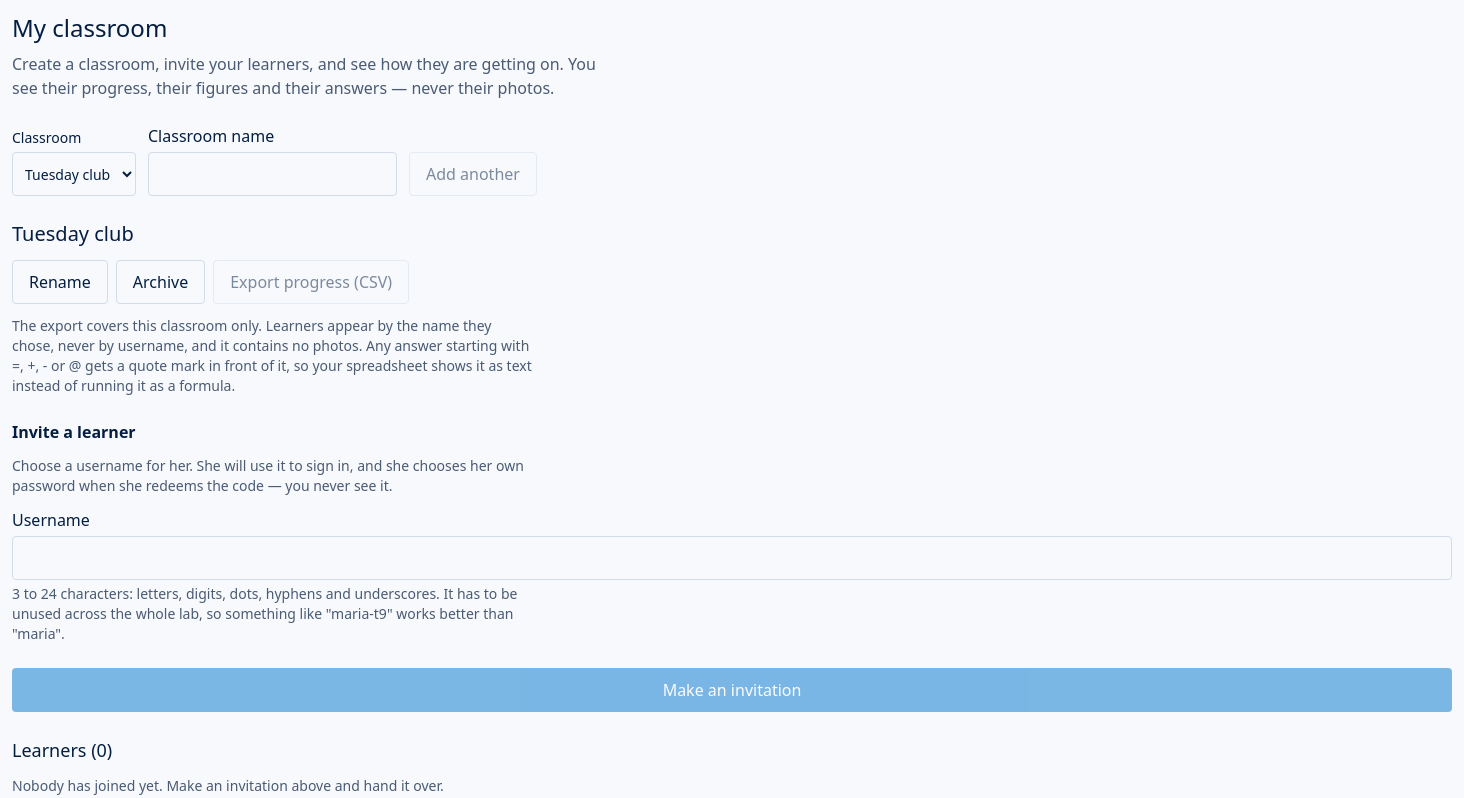
issuing an invitation (FR-026, FR-028, Scenario 6.2) › offers no way to email it, and no way to see it again (FR-026, R16)
Check: the heading "My classroom" is shown, box [12,11,167,44]
Type "zz-issued-username" into the field labelled "Username" at (732, 558), box [12,536,1452,580]
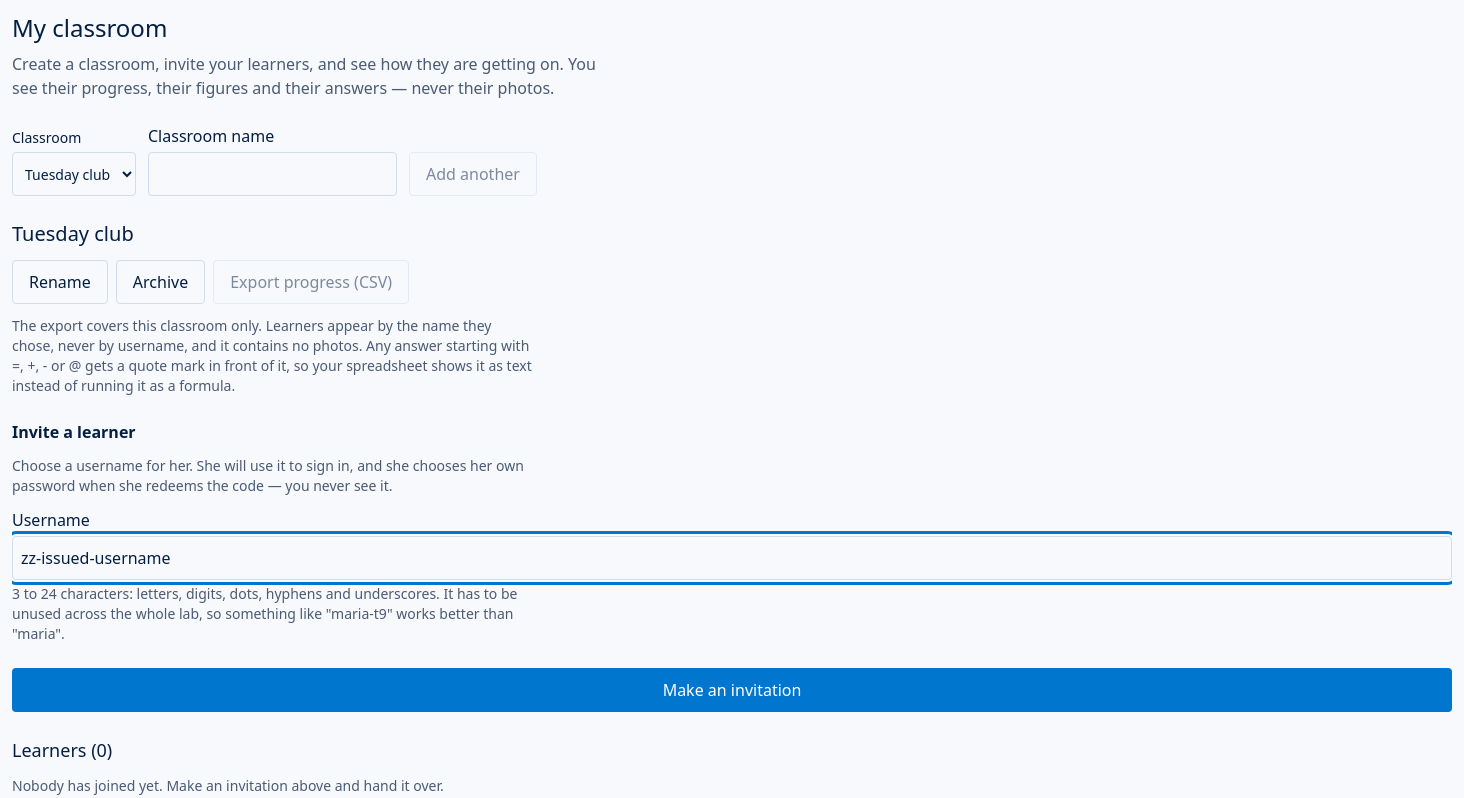
Click the button "Make an invitation" at (732, 690), box [12,668,1452,712]
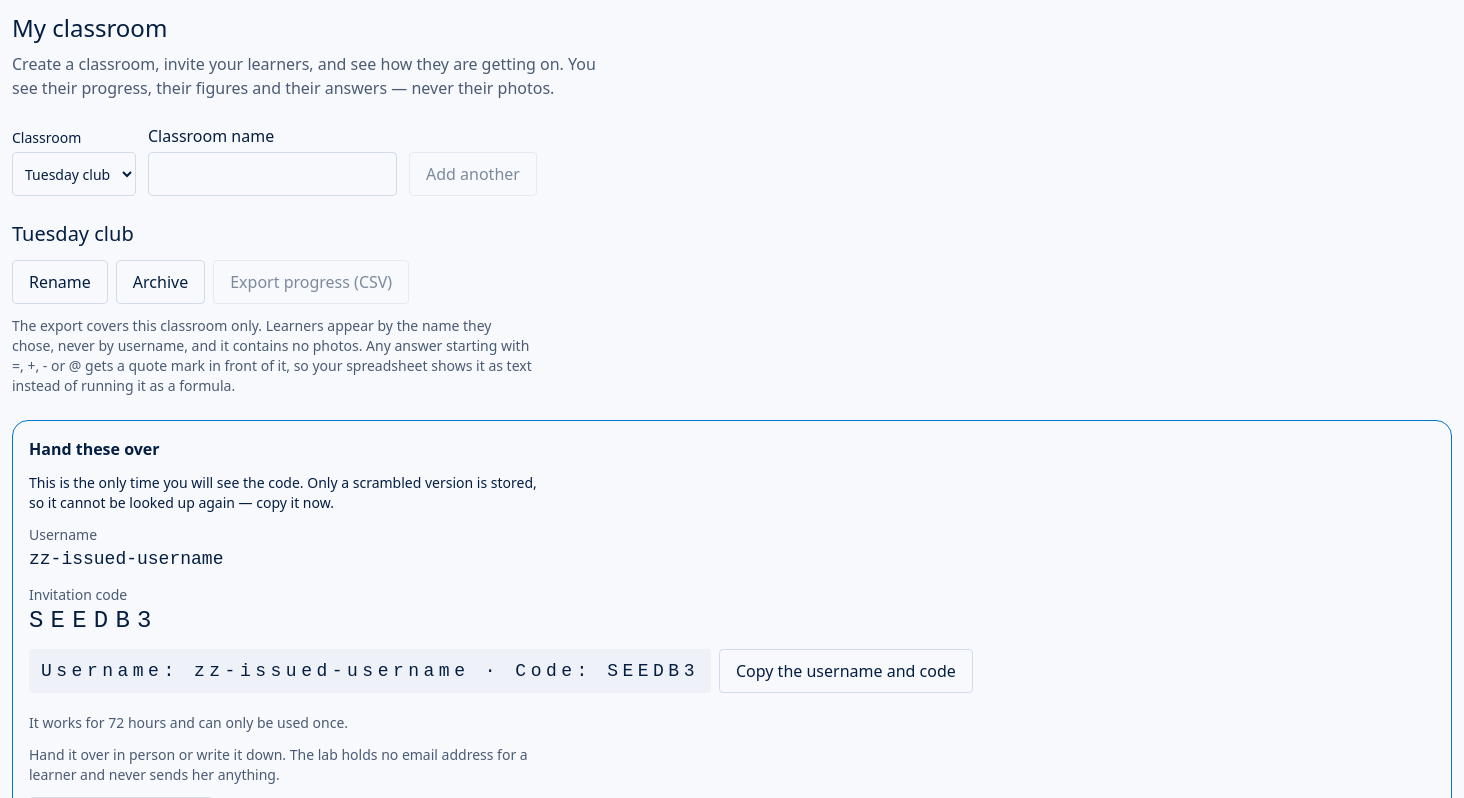
Check: the text "Hand it over in person" is shown, box [29,745,528,784]
